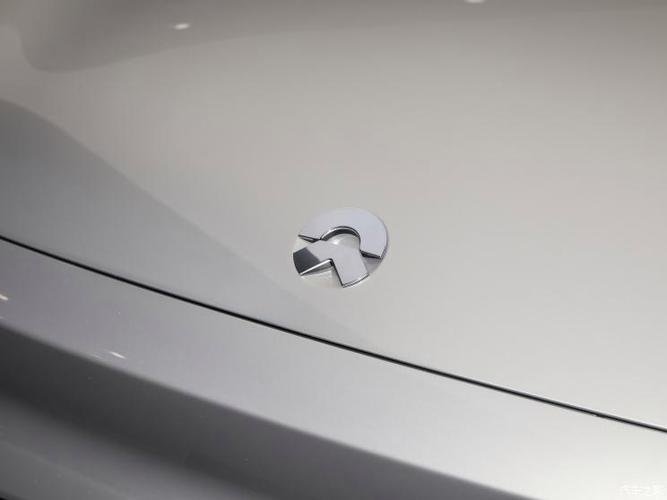NIO: (294, 203, 386, 288)
